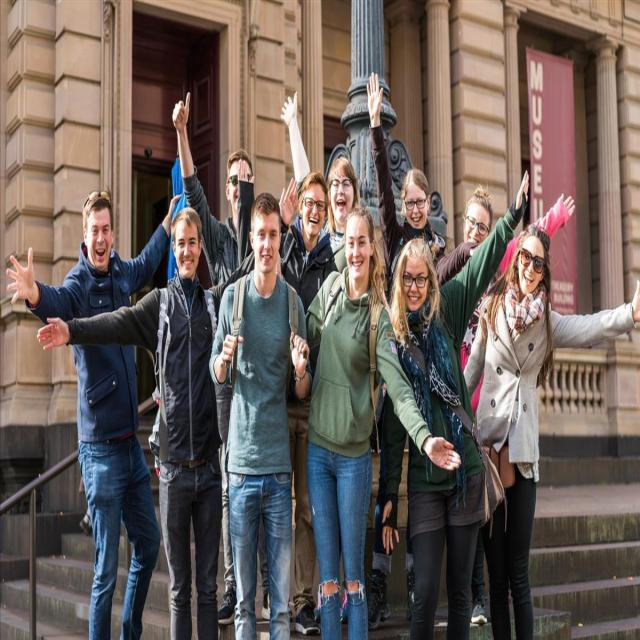body: (34, 207, 283, 639), (6, 186, 183, 640), (373, 166, 532, 639), (463, 224, 639, 640), (305, 205, 462, 640), (362, 71, 483, 632), (171, 86, 273, 623), (459, 181, 577, 629), (204, 182, 315, 639), (234, 160, 340, 636), (280, 88, 376, 584)
